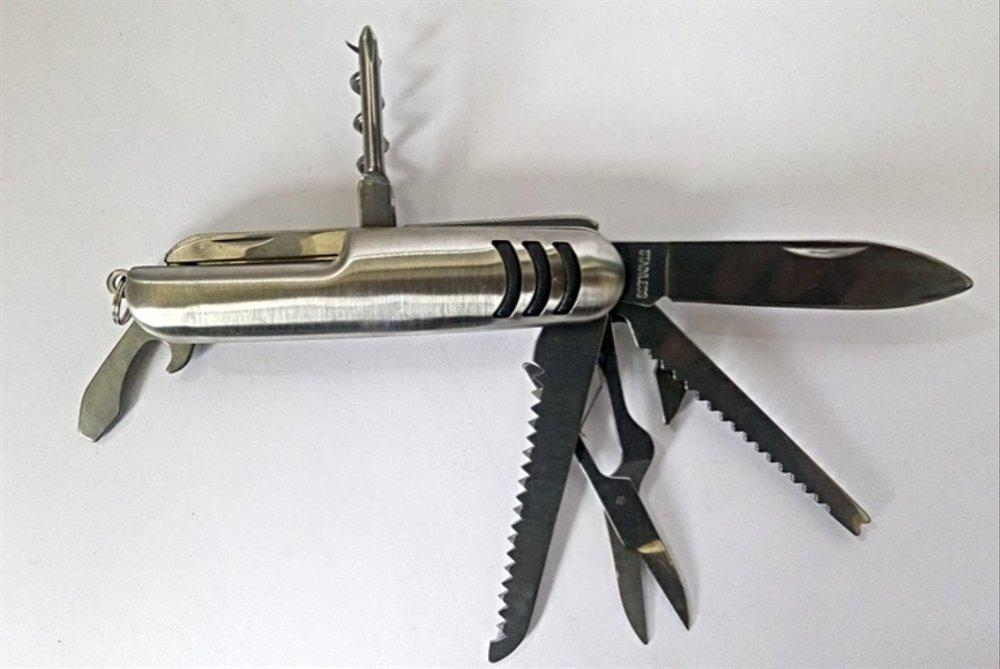faca: (611, 302, 869, 534), (489, 319, 605, 662), (617, 241, 972, 310)
tesoura: (575, 324, 689, 644)
